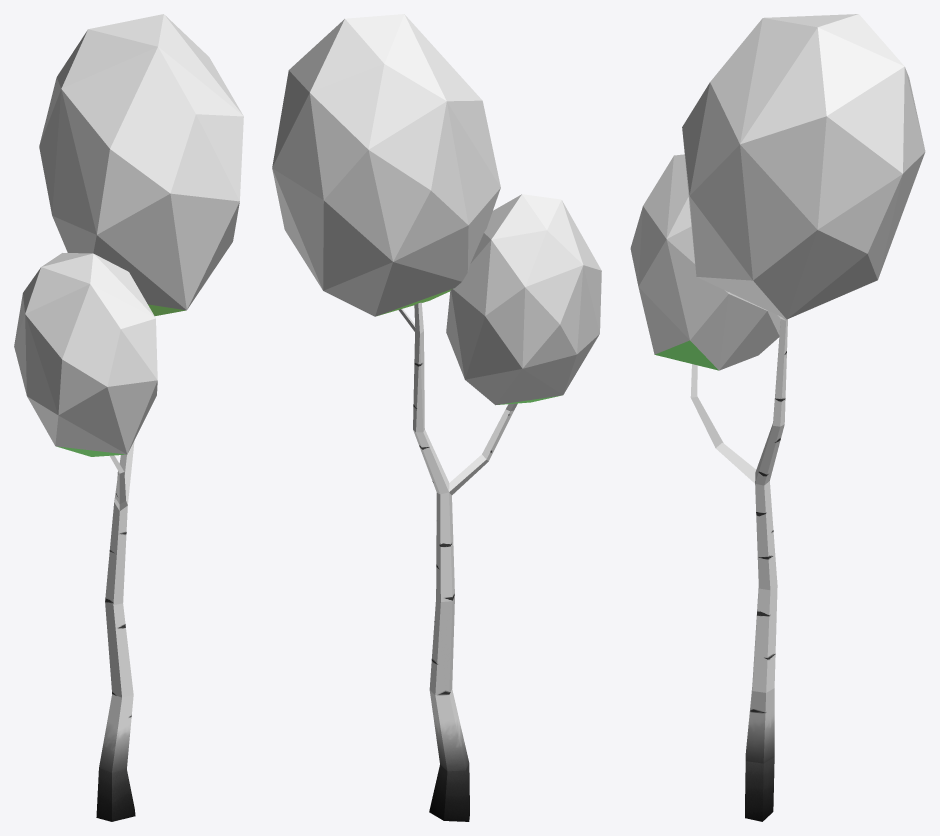
Rendered from Birch_Tree_l_Snow_BT_03.fbx.
The picture shows the model from 3 angles, left to right: view 1: azimuth 30°, elevation 25°; view 2: azimuth 150°, elevation 25°; view 3: azimuth 270°, elevation 25°; orthographic projection. The views are drawn at different scales.
Visible parts, largest first — view 1: Birch_Tree_l_Snow_BT_03; view 2: Birch_Tree_l_Snow_BT_03; view 3: Birch_Tree_l_Snow_BT_03.
Part boxes in pixels (x1,y1,x2,y2): Birch_Tree_l_Snow_BT_03: [14, 14, 243, 821]; Birch_Tree_l_Snow_BT_03: [272, 14, 601, 821]; Birch_Tree_l_Snow_BT_03: [630, 14, 925, 821].
Bounding box in the file's own units: 530 × 1611 × 523.
